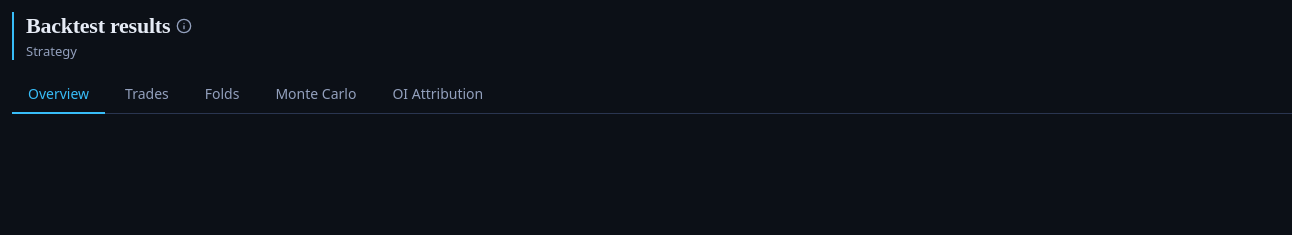
Test: BacktestResultsPage › shows metrics, trades, folds and the Monte Carlo tab
The image size is (1292, 235).
Click the tab "Trades" at [147, 95], box [109,76,185,114]
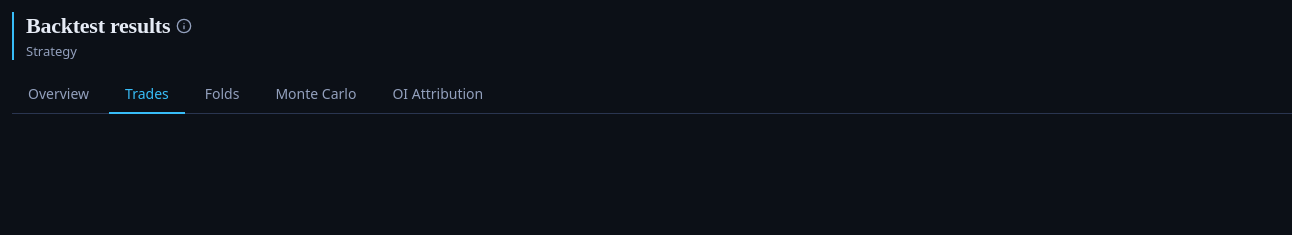
Click the tab "Folds" at [222, 95], box [189,76,255,114]
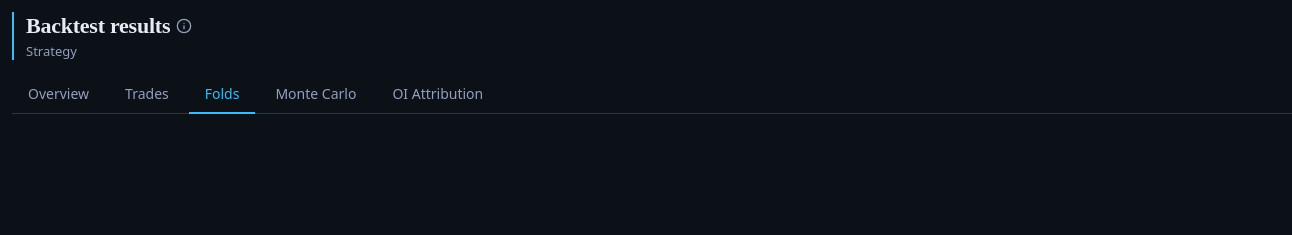
Click the tab "Monte Carlo" at [316, 95], box [259,76,372,114]
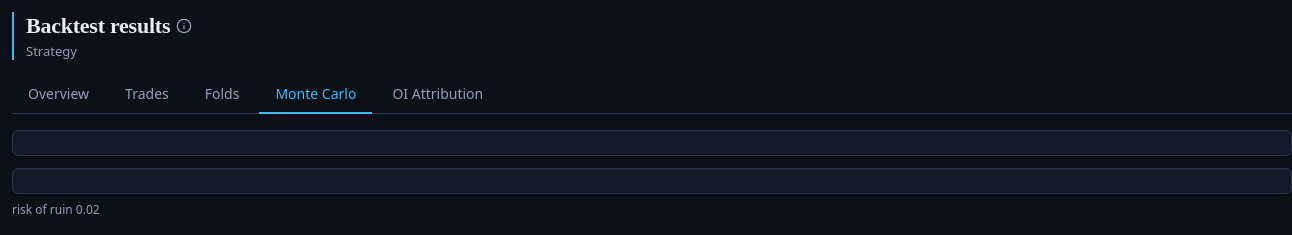
Check: the text "risk of ruin 0.02" is shown, box [12,201,100,218]
